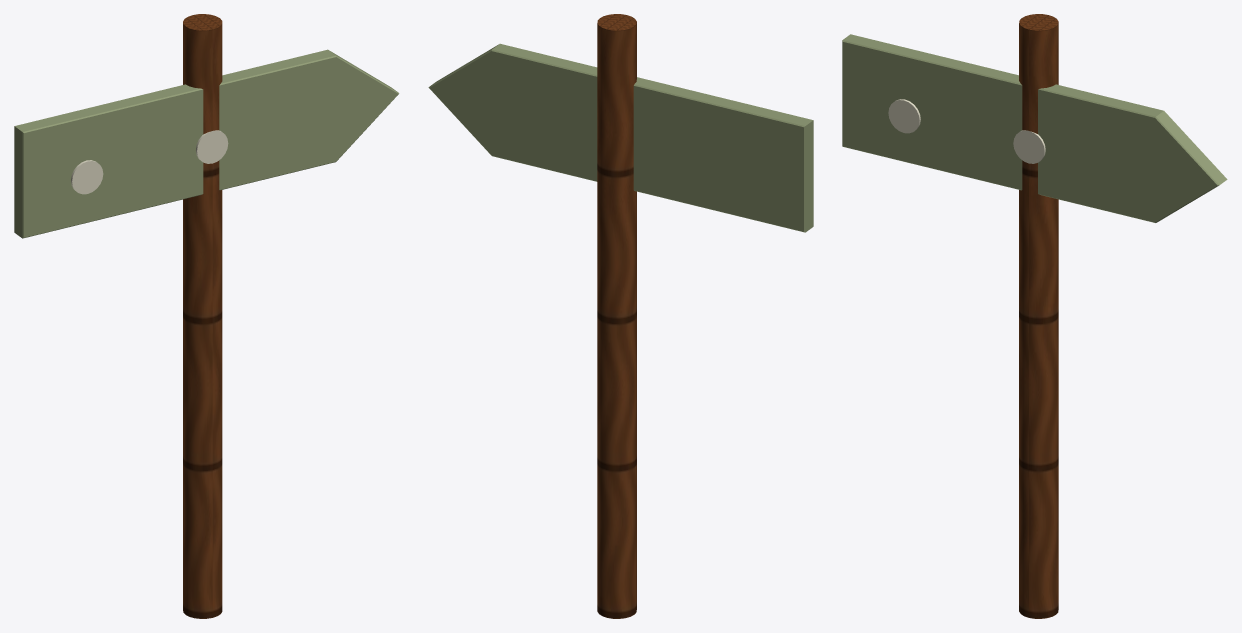
3 renders of one model, left to right at view 1: azimuth 30°, elevation 25°; view 2: azimuth 150°, elevation 25°; view 3: azimuth 330°, elevation 25°, orthographic.
Parts seen in each view (by area): view 1: roadside-trade-marker; view 2: roadside-trade-marker; view 3: roadside-trade-marker.
Boxes of the visible parts, x1,y1,x2,y2 form: roadside-trade-marker: (14,14,399,618); roadside-trade-marker: (428,14,813,618); roadside-trade-marker: (842,14,1227,618).
Bounding box in the file's own units: 1.21 × 1.8 × 0.1101.
Materials: 3 (1 with a texture image).
